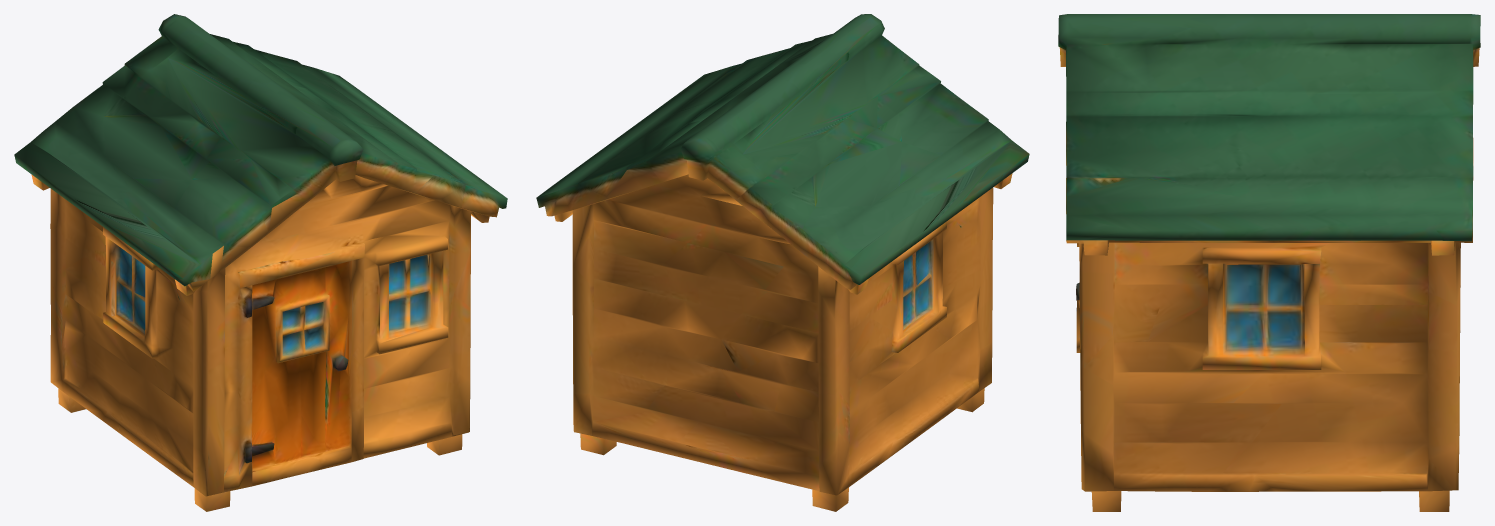
The model's file is shed.glb.
3 renders of one model, left to right at view 1: azimuth 30°, elevation 25°; view 2: azimuth 150°, elevation 25°; view 3: azimuth 270°, elevation 25°, orthographic. The views are drawn at different scales.
Parts seen in each view (by area): view 1: model; view 2: model; view 3: model.
Part boxes in pixels (x1,y1,x2,y2): model: [14, 14, 507, 511]; model: [536, 14, 1029, 511]; model: [1058, 14, 1480, 511].
Bounding box in the file's own units: 1.84 × 1.89 × 1.72.
1 material, 1 textured.
